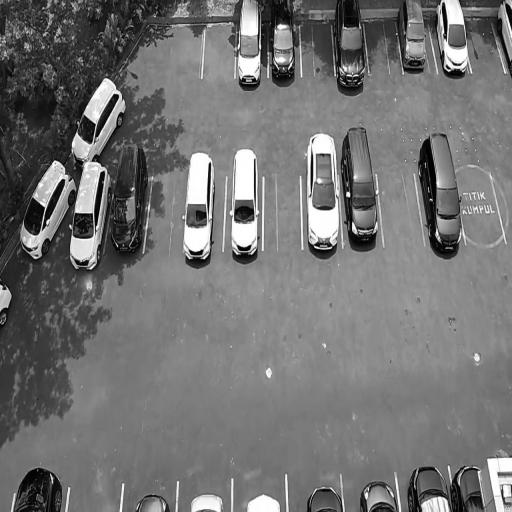Car: (10, 157, 82, 272), (415, 125, 469, 264), (62, 71, 131, 170), (61, 162, 114, 279), (338, 119, 382, 255), (303, 120, 343, 263), (106, 144, 152, 257), (227, 138, 262, 271), (180, 150, 218, 272), (333, 0, 373, 92), (433, 0, 474, 84), (397, 0, 432, 85), (13, 460, 66, 512), (234, 0, 263, 93), (270, 0, 297, 95), (407, 462, 452, 512), (454, 463, 485, 512), (360, 477, 400, 512), (495, 0, 512, 77), (306, 478, 343, 512), (0, 274, 14, 336), (135, 488, 171, 512), (189, 488, 225, 512), (246, 490, 280, 512)
Space Available: (377, 164, 425, 253), (457, 168, 506, 247), (263, 170, 302, 251), (144, 174, 184, 252), (363, 13, 402, 78), (463, 18, 505, 73), (199, 18, 235, 80), (301, 16, 334, 79), (67, 479, 123, 512)
